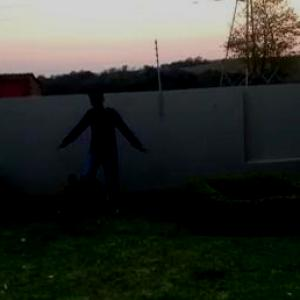land: (58, 95, 149, 222)
